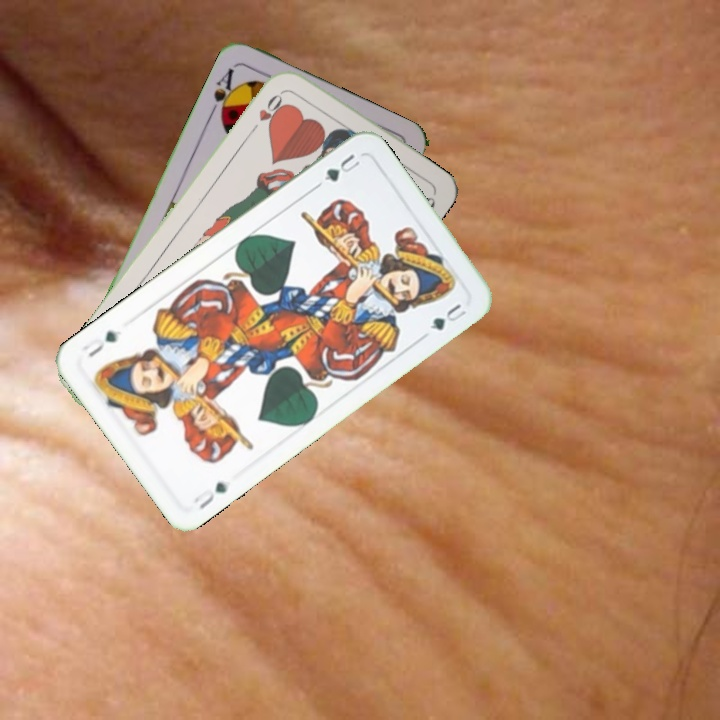GU: (319, 149, 363, 185), (188, 477, 230, 512)
HO: (247, 86, 289, 135)
SA: (205, 64, 241, 122)
